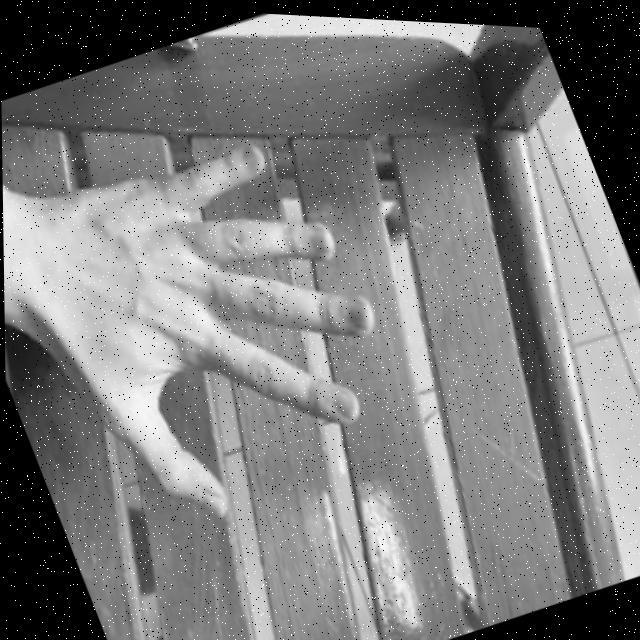no-gloves: (1, 101, 427, 560)
